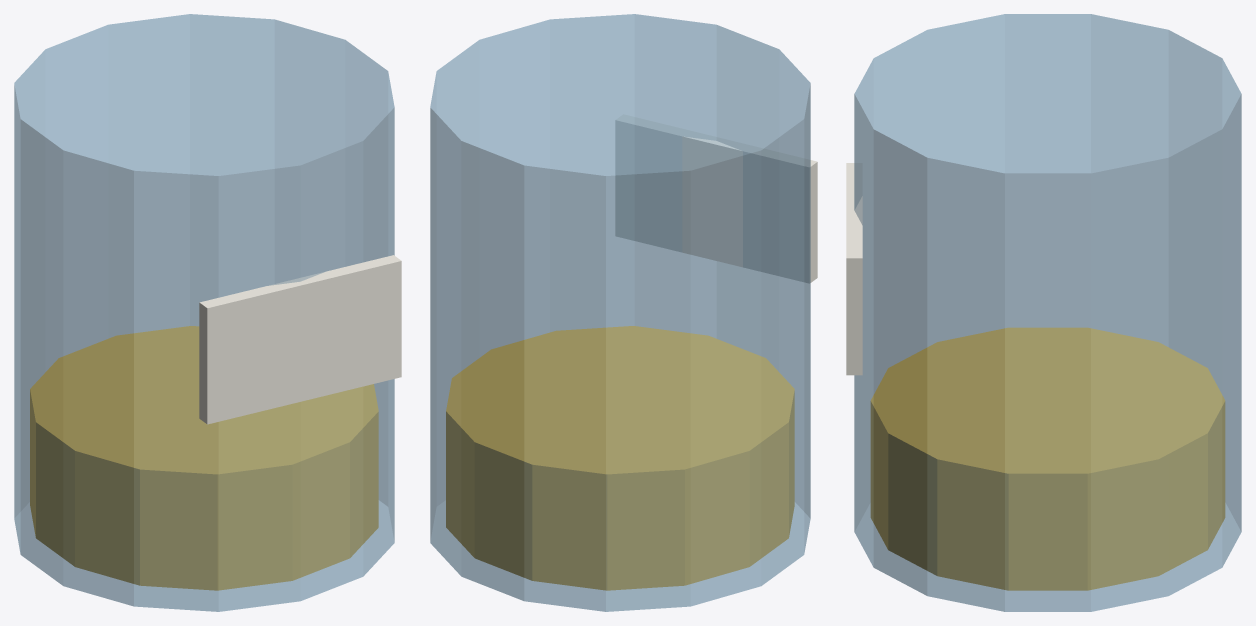
The model's file is prop_coffee_p2.glb.
3 renders of one model, left to right at view 1: azimuth 30°, elevation 25°; view 2: azimuth 150°, elevation 25°; view 3: azimuth 270°, elevation 25°, orthographic.
Parts seen in each view (by area): view 1: prop_coffee_p2_mesh; view 2: prop_coffee_p2_mesh; view 3: prop_coffee_p2_mesh.
Boxes of the visible parts, x1=… form: prop_coffee_p2_mesh: x1=14, y1=14, x2=401, y2=611; prop_coffee_p2_mesh: x1=430, y1=14, x2=817, y2=611; prop_coffee_p2_mesh: x1=846, y1=14, x2=1241, y2=611.
Size of the model in its own units: 0.117 by 0.15 by 0.1225.
